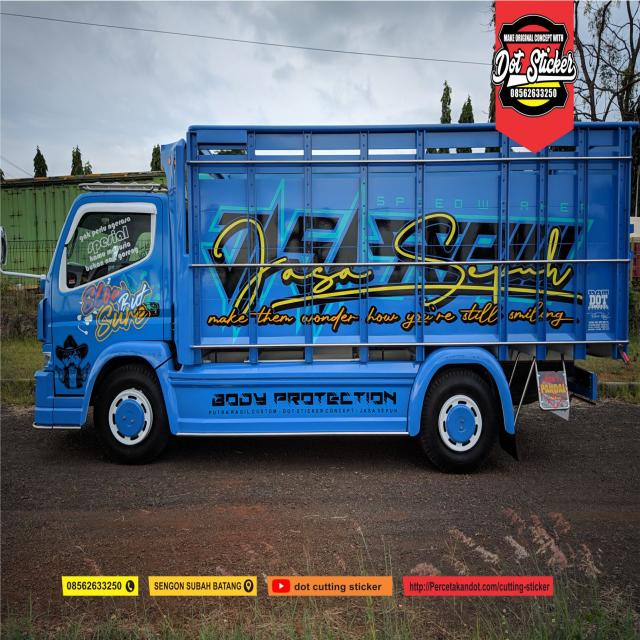truck: (33, 125, 630, 459)
